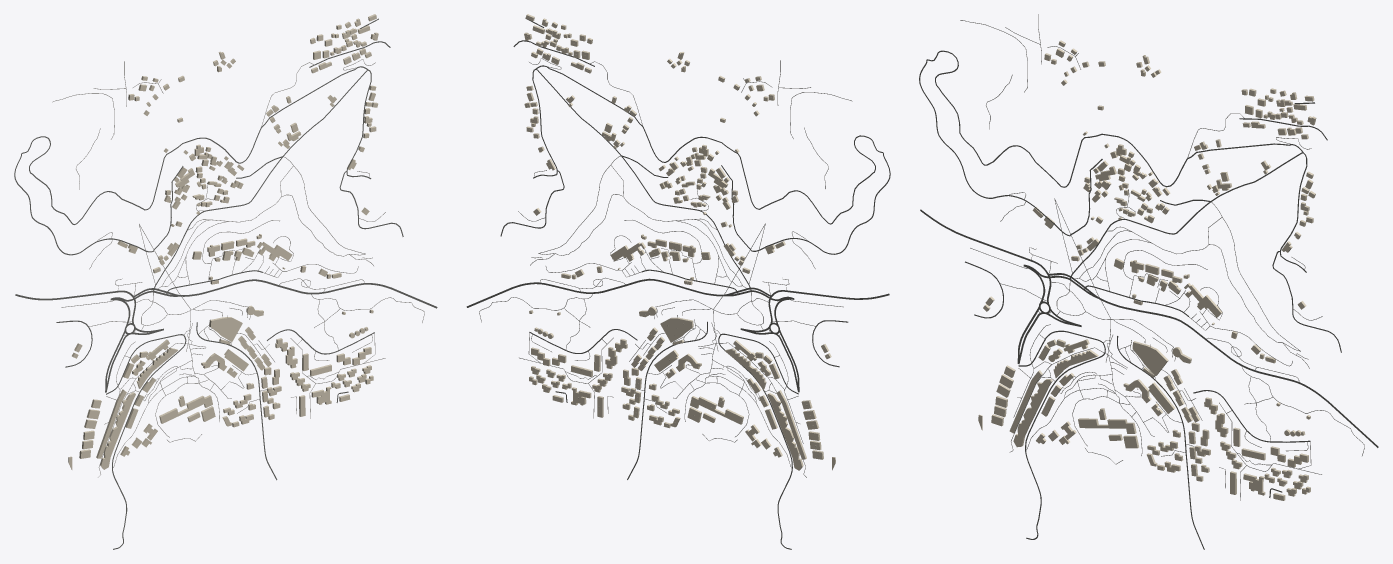
Rendered from historic-palestine-10_23_3523_3175.glb.
The picture shows the model from 3 angles, left to right: view 1: azimuth 30°, elevation 25°; view 2: azimuth 150°, elevation 25°; view 3: azimuth 330°, elevation 25°; orthographic projection. The views are drawn at different scales.
Visible parts, largest first — view 1: Road .010, Road .012, Building_.017, Road על"ר, Road מרדכי אלקחי.002, Road Gedud 68; view 2: Road .010, Building_.017, Road .012, Road על"ר; view 3: Road .010, Road .012, Building_.017, Road על"ר, Road מרדכי אלקחי.002, Road Gedud 68, Building_.
Boxes of the visible parts, <box> form: Road .010: <box>21,66,368,224</box>; Road .012: <box>153,69,371,291</box>; Building_.017: <box>100,392,135,469</box>; Road על"ר: <box>179,279,437,308</box>; Road מרדכי אלקחי.002: <box>112,334,186,549</box>; Road Gedud 68: <box>14,153,183,255</box>; Road .010: <box>536,65,883,224</box>; Building_.017: <box>767,393,803,470</box>; Road .012: <box>532,68,751,290</box>; Road על"ר: <box>466,278,724,307</box>; Road .010: <box>927,50,1303,187</box>; Road .012: <box>1069,152,1307,278</box>; Building_.017: <box>1013,379,1052,447</box>; Road על"ר: <box>1098,297,1378,447</box>; Road מרדכי אלקחי.002: <box>1025,330,1105,539</box>; Road Gedud 68: <box>919,59,1102,236</box>; Building_: <box>1078,418,1136,433</box>.
Size of the model in its own units: 1311 by 1438 by 8.7.
